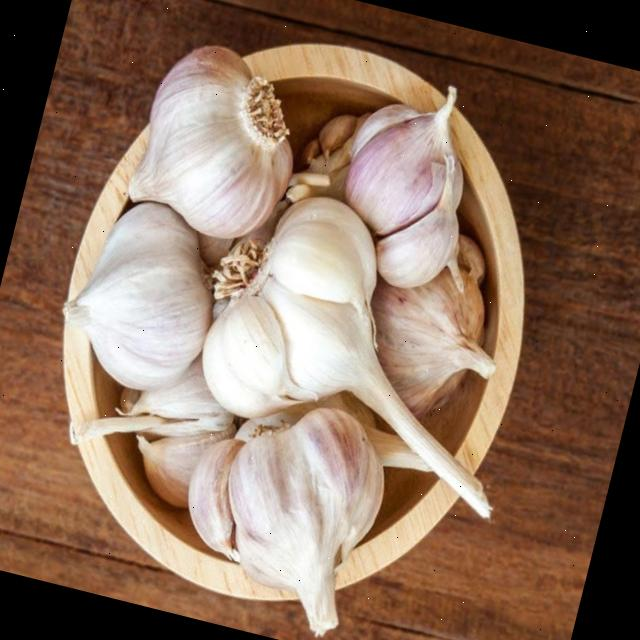garlic: (203, 198, 490, 518), (188, 409, 383, 635), (129, 47, 292, 238), (64, 203, 212, 390), (345, 88, 462, 290), (371, 236, 495, 417)
